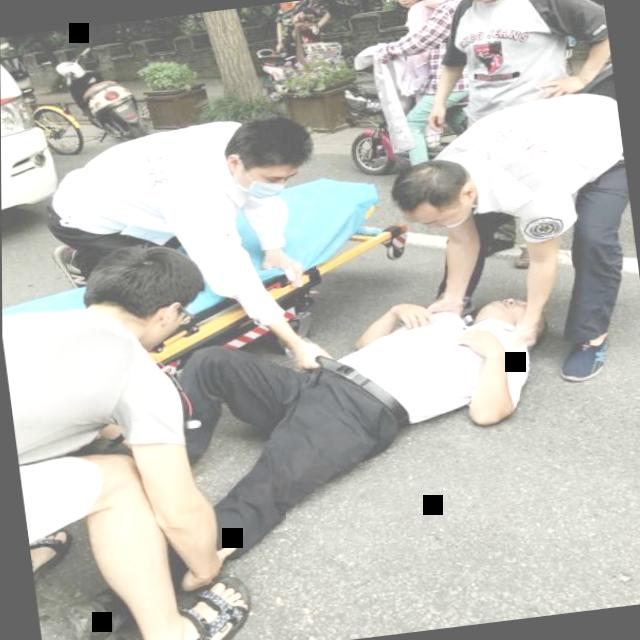Fall-Detected: (99, 257, 585, 640)
